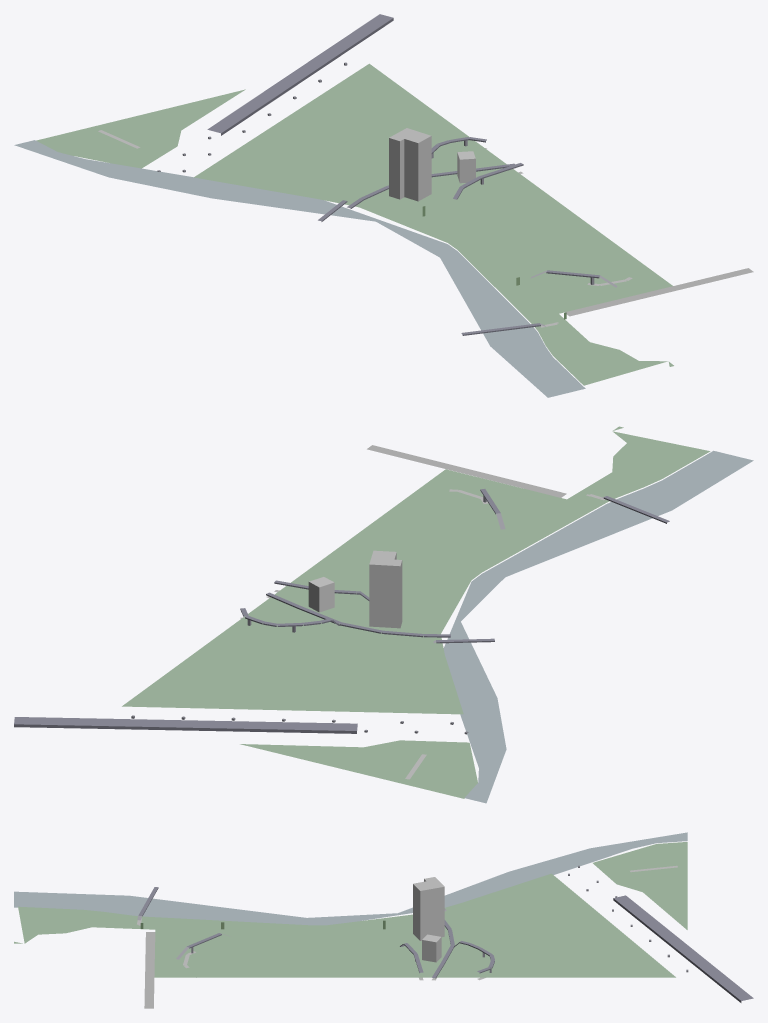
3 views of the same model, one above another, from view 1: azimuth 30°, elevation 25°; view 2: azimuth 150°, elevation 25°; view 3: azimuth 270°, elevation 25° (orthographic). The views are drawn at different scales.
Size of the model in its own units: 312 by 42.91 by 549.
